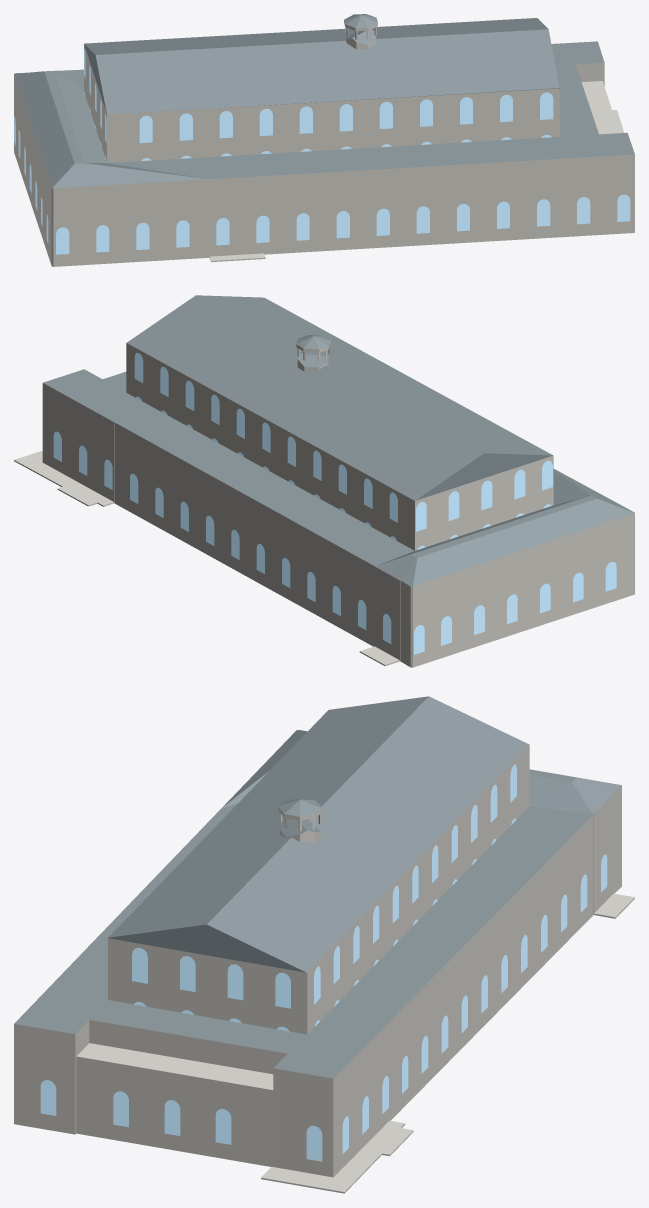
3 renders of one model, top to bottom at view 1: azimuth 30°, elevation 25°; view 2: azimuth 150°, elevation 25°; view 3: azimuth 270°, elevation 25°, orthographic. The views are drawn at different scales.
Visible parts, largest first — view 1: stone, roof, window; view 2: stone, roof, window; view 3: roof, stone, window.
Part boxes in pixels (x1,y1,x2,y2): stone: [14, 20, 634, 266]; roof: [14, 14, 634, 188]; window: [14, 49, 630, 254]; stone: [14, 341, 634, 667]; roof: [43, 295, 634, 586]; window: [53, 352, 616, 654]; roof: [14, 696, 621, 1078]; stone: [14, 745, 634, 1193]; window: [40, 764, 607, 1161].
Bounding box in the file's own units: 101 × 29 × 72.93.
